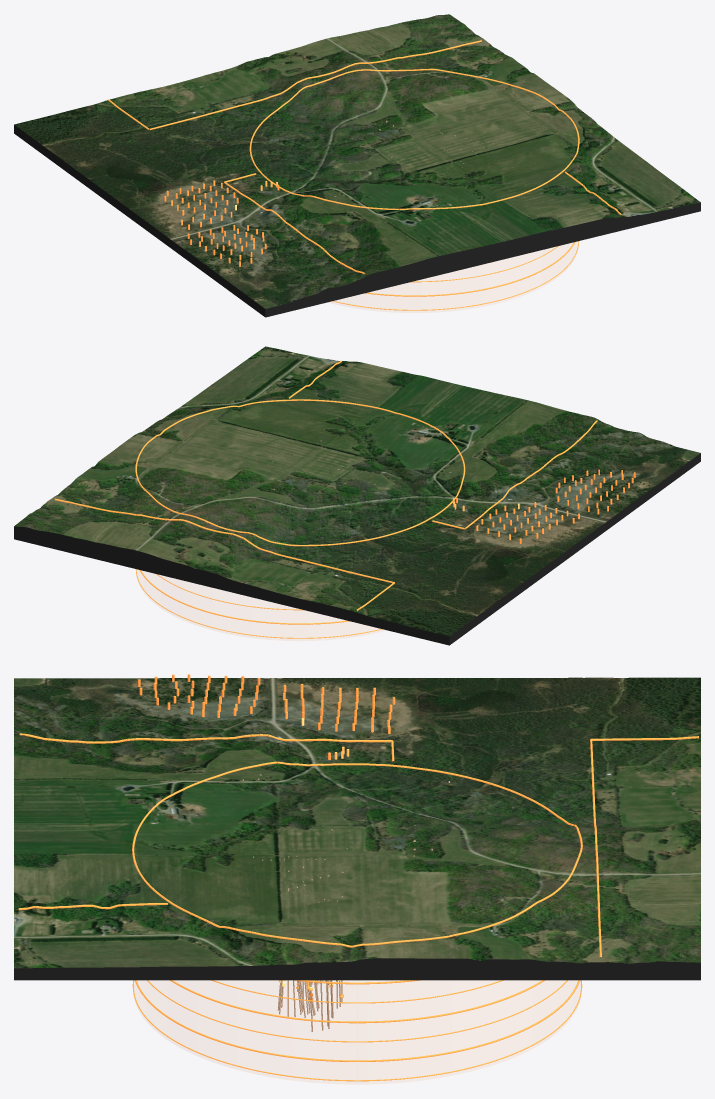
The picture shows the model from 3 angles, top to bottom: view 1: azimuth 30°, elevation 25°; view 2: azimuth 150°, elevation 25°; view 3: azimuth 270°, elevation 25°; orthographic projection. The views are drawn at different scales.
Parts seen in each view (by area): view 1: ground_land, glass_lid, ground_edge, wall_rim, claims_line, tail_14, wall_50m; view 2: ground_land, glass_lid, ground_edge, wall_rim, claims_line, tail_14, wall_50m; view 3: ground_land, glass_lid, ground_edge, wall_rim, claims_line, wall_100m, wall_50m, tail_14, s6se_tubes.
Boxes of the visible parts, x1,y1,x2,y2 form: ground_land: (14,14,700,308); glass_lid: (251,70,577,209); ground_edge: (14,125,700,317); wall_rim: (249,68,579,209); claims_line: (108,40,621,274); tail_14: (164,184,279,266); wall_50m: (332,241,579,310); ground_land: (14,346,700,636); glass_lid: (137,400,463,544); ground_edge: (14,453,700,645); wall_rim: (135,399,465,546); claims_line: (55,360,597,610); tail_14: (456,470,635,543); wall_50m: (135,569,382,638); ground_land: (14,677,700,968); glass_lid: (134,763,580,945); ground_edge: (14,958,700,980); wall_rim: (132,761,582,947); claims_line: (18,733,698,957); wall_100m: (135,980,579,1061); wall_50m: (132,980,582,1081); tail_14: (138,675,395,759); s6se_tubes: (277,866,342,1017).
Bounding box in the file's own units: 0.6 × 0.144 × 0.6.
39 materials, 2 textured.
